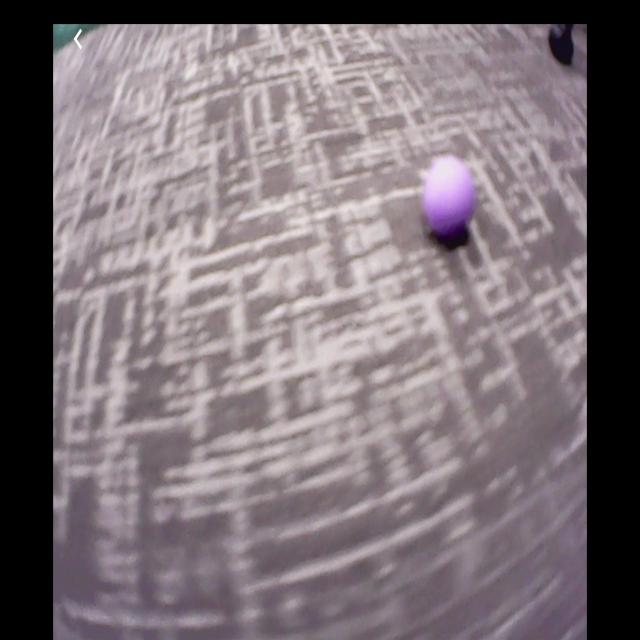ball: (426, 156, 475, 234)
